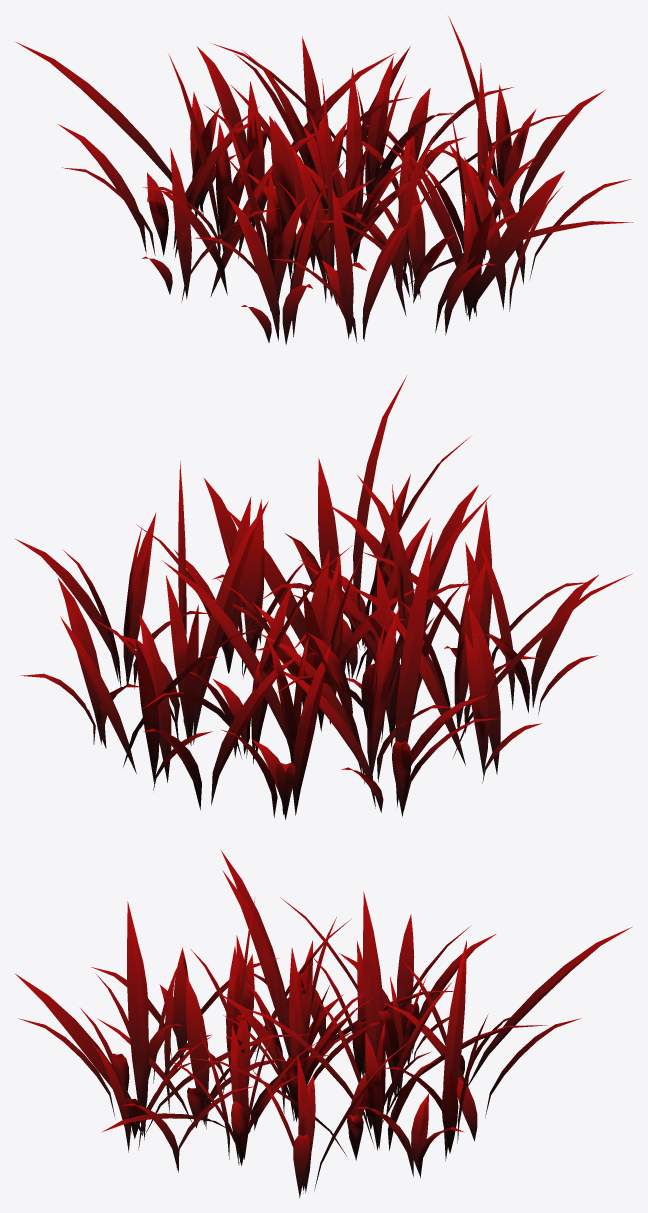
The model's file is grass.fbx.
3 views of the same model, one above another, from view 1: azimuth 30°, elevation 25°; view 2: azimuth 150°, elevation 25°; view 3: azimuth 270°, elevation 25° (orthographic). The views are drawn at different scales.
Parts seen in each view (by area): view 1: grass; view 2: grass; view 3: grass.
Boxes of the visible parts, bbox=[...] form: grass: bbox=[16, 16, 633, 344]; grass: bbox=[15, 376, 632, 819]; grass: bbox=[15, 850, 631, 1198].
Bounding box in the file's own units: 4.41 × 1.79 × 4.98.
